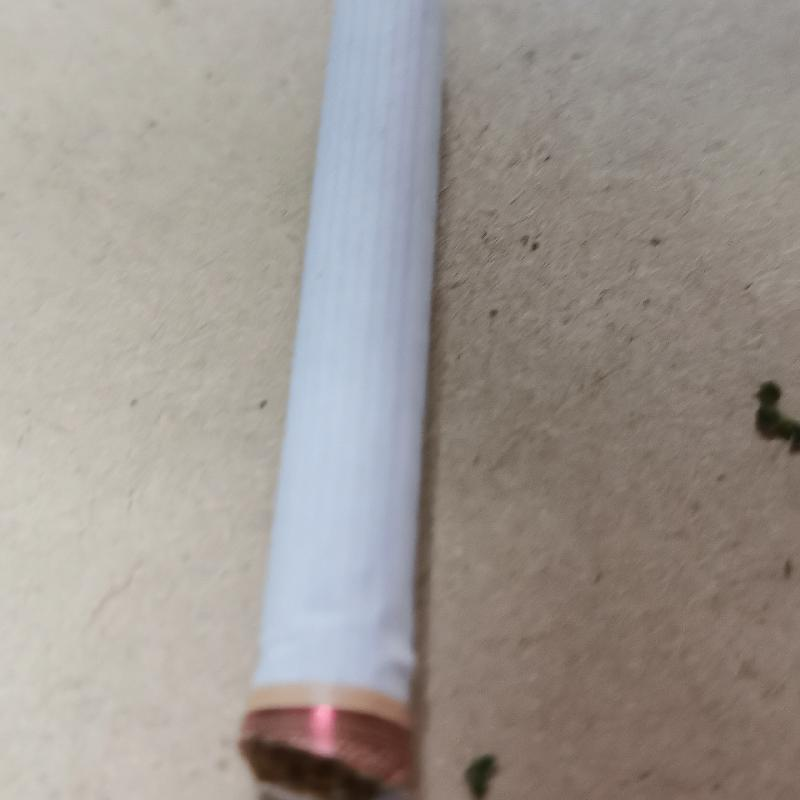cigarette: (235, 6, 451, 797)
